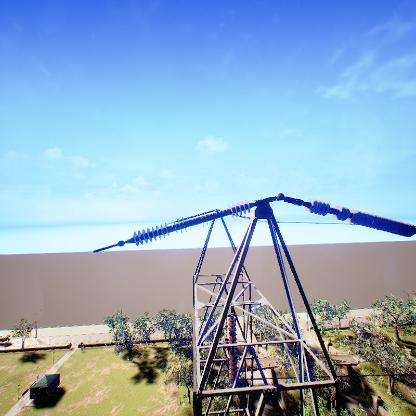insulator: (132, 198, 252, 248), (305, 198, 416, 240), (227, 314, 237, 380)
